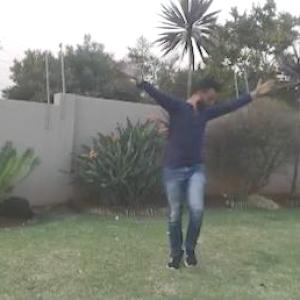takeoff: (113, 60, 280, 282)
